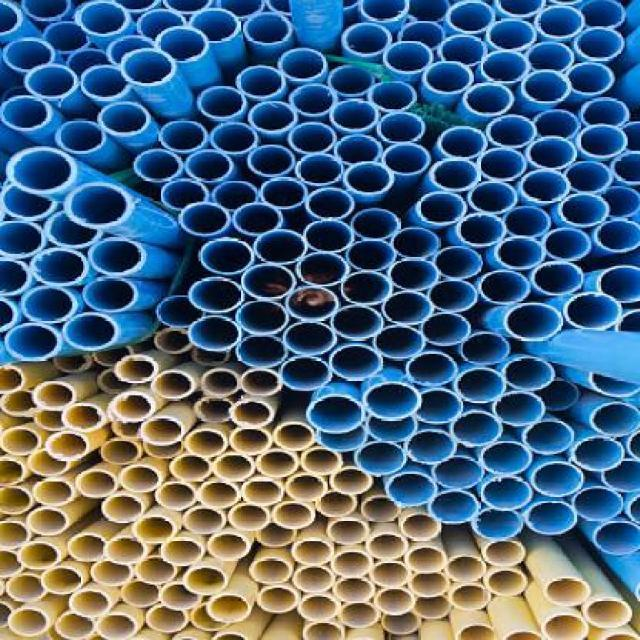pipe: (65, 184, 127, 225), (30, 248, 94, 287), (384, 463, 439, 508), (527, 457, 585, 498), (21, 286, 83, 324), (364, 382, 422, 422), (307, 395, 366, 434), (43, 211, 102, 250), (4, 323, 63, 362), (564, 292, 624, 330), (198, 237, 255, 276), (507, 304, 565, 342), (14, 150, 69, 190), (523, 497, 578, 536), (500, 355, 557, 392), (188, 277, 245, 314), (0, 185, 57, 222), (487, 237, 547, 272), (523, 417, 576, 456), (568, 61, 616, 104), (121, 47, 175, 85), (571, 436, 626, 473), (553, 193, 611, 228), (451, 410, 504, 448), (330, 344, 383, 382), (178, 202, 231, 240), (343, 22, 393, 62), (278, 47, 329, 86), (237, 65, 288, 104), (477, 50, 532, 86), (242, 264, 297, 300), (406, 351, 459, 388), (254, 229, 307, 266), (517, 69, 573, 104), (479, 476, 535, 511), (493, 392, 547, 428), (480, 440, 534, 476), (286, 286, 340, 322), (188, 316, 242, 352), (235, 301, 290, 336), (577, 125, 629, 162), (518, 169, 570, 206), (454, 367, 506, 404), (573, 486, 625, 523), (3, 37, 55, 74), (535, 4, 585, 42), (197, 86, 247, 124), (531, 261, 585, 296), (478, 270, 532, 305), (185, 149, 236, 186), (574, 26, 626, 62), (374, 326, 426, 362), (355, 442, 407, 478), (280, 356, 332, 392), (341, 271, 394, 306), (406, 430, 457, 466), (296, 252, 350, 286), (445, 0, 496, 36), (80, 65, 127, 104), (429, 491, 481, 526), (283, 323, 338, 356), (459, 332, 512, 366), (457, 214, 507, 250), (332, 306, 382, 342), (331, 98, 381, 134), (91, 238, 141, 274), (63, 314, 114, 349), (210, 122, 258, 159), (526, 136, 578, 170), (486, 18, 538, 52), (383, 292, 435, 326), (234, 202, 283, 238), (133, 148, 182, 184), (433, 456, 486, 489), (182, 559, 229, 596), (487, 114, 538, 148), (592, 402, 640, 438), (248, 144, 296, 180), (479, 147, 528, 182), (259, 177, 308, 212), (428, 279, 479, 312), (468, 181, 519, 214), (304, 219, 355, 252), (423, 313, 472, 347), (434, 246, 483, 280), (236, 336, 288, 368), (418, 390, 464, 426), (160, 532, 206, 568), (368, 81, 418, 114), (306, 187, 356, 220), (297, 153, 344, 188), (472, 511, 525, 542), (545, 228, 593, 262), (351, 208, 402, 240), (328, 64, 376, 98), (161, 178, 209, 212), (159, 120, 207, 154), (83, 278, 134, 310), (566, 161, 615, 194), (288, 121, 337, 154), (594, 521, 640, 556), (390, 258, 440, 290), (347, 240, 397, 272), (377, 112, 427, 144), (384, 41, 434, 73), (438, 34, 488, 66), (334, 134, 384, 166), (207, 528, 254, 562), (367, 524, 409, 562), (43, 21, 88, 56), (183, 424, 229, 458), (25, 65, 75, 96), (584, 599, 634, 630), (405, 538, 448, 574), (17, 539, 63, 572), (399, 508, 442, 543), (505, 206, 552, 238), (248, 101, 298, 131), (393, 227, 441, 258), (601, 266, 640, 304), (361, 487, 401, 524), (156, 296, 202, 328), (527, 42, 576, 72), (535, 109, 582, 140), (190, 8, 235, 40), (581, 98, 632, 126), (212, 181, 258, 212), (231, 397, 277, 428), (32, 477, 78, 508), (291, 534, 335, 566), (197, 478, 241, 510), (132, 514, 176, 546), (0, 424, 44, 456), (598, 219, 640, 252), (331, 546, 373, 579), (241, 476, 284, 508), (159, 581, 202, 613), (160, 29, 204, 60), (484, 568, 529, 598), (182, 506, 227, 536), (155, 480, 197, 512), (327, 515, 370, 546), (273, 421, 316, 452), (45, 431, 88, 462), (69, 587, 110, 619), (5, 572, 46, 604), (257, 448, 299, 479), (213, 452, 255, 483), (119, 463, 161, 494), (442, 126, 485, 156), (285, 473, 328, 503), (257, 585, 300, 615), (135, 556, 178, 586), (330, 467, 374, 496), (272, 501, 316, 530), (25, 507, 69, 536), (5, 95, 46, 126), (169, 454, 211, 484), (201, 366, 240, 398), (81, 4, 124, 33), (298, 594, 341, 623), (7, 607, 47, 638), (292, 567, 336, 595), (206, 596, 250, 624), (62, 404, 106, 432), (60, 121, 101, 151), (301, 446, 342, 476), (230, 503, 271, 533), (449, 583, 491, 612), (548, 580, 591, 608), (386, 143, 427, 172), (90, 561, 134, 588), (110, 395, 152, 423), (114, 356, 156, 384), (468, 85, 511, 112), (103, 105, 146, 132), (240, 369, 283, 396), (229, 429, 272, 456), (604, 186, 640, 218), (54, 612, 95, 640), (100, 438, 141, 466), (348, 165, 390, 192), (428, 64, 470, 91), (375, 589, 417, 616), (316, 491, 358, 518), (120, 581, 159, 610), (436, 160, 476, 188), (101, 495, 139, 524), (141, 418, 180, 446), (41, 568, 80, 596), (543, 617, 590, 640), (447, 557, 487, 584), (151, 373, 191, 400), (333, 579, 376, 604), (370, 562, 411, 588), (340, 604, 381, 630), (103, 540, 144, 566), (75, 473, 114, 500), (487, 542, 527, 568), (612, 151, 640, 188), (67, 536, 104, 564), (295, 85, 333, 112), (249, 15, 287, 42), (0, 517, 31, 550), (0, 486, 34, 516), (146, 608, 185, 634), (409, 574, 451, 598), (249, 562, 290, 586), (422, 196, 459, 222), (256, 524, 296, 548), (0, 391, 35, 418), (383, 613, 422, 637), (97, 616, 135, 640), (416, 597, 452, 622), (37, 385, 72, 408), (0, 368, 21, 392)
